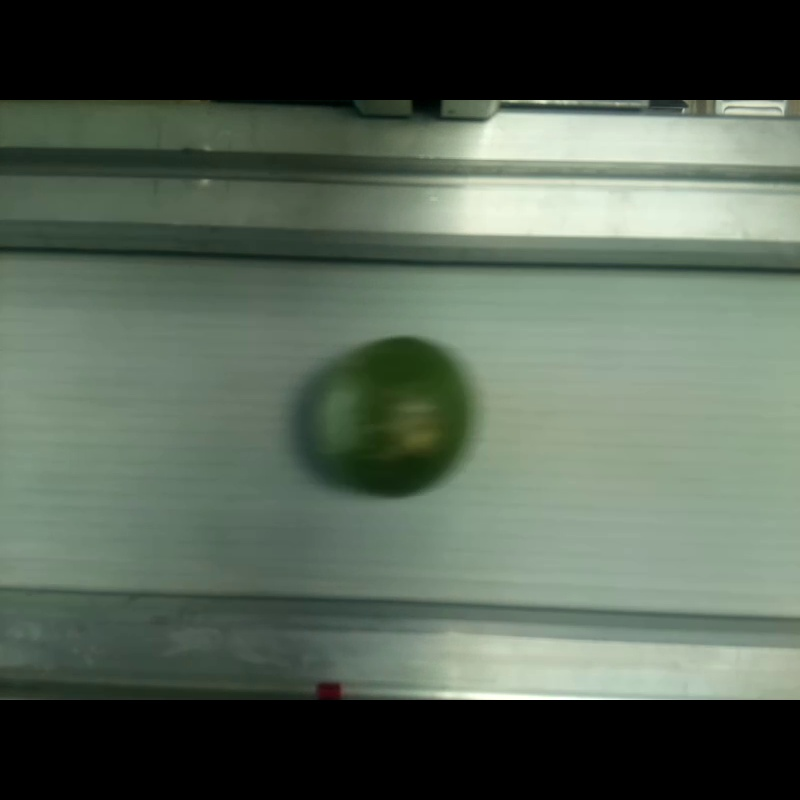lime: (302, 336, 468, 493)
